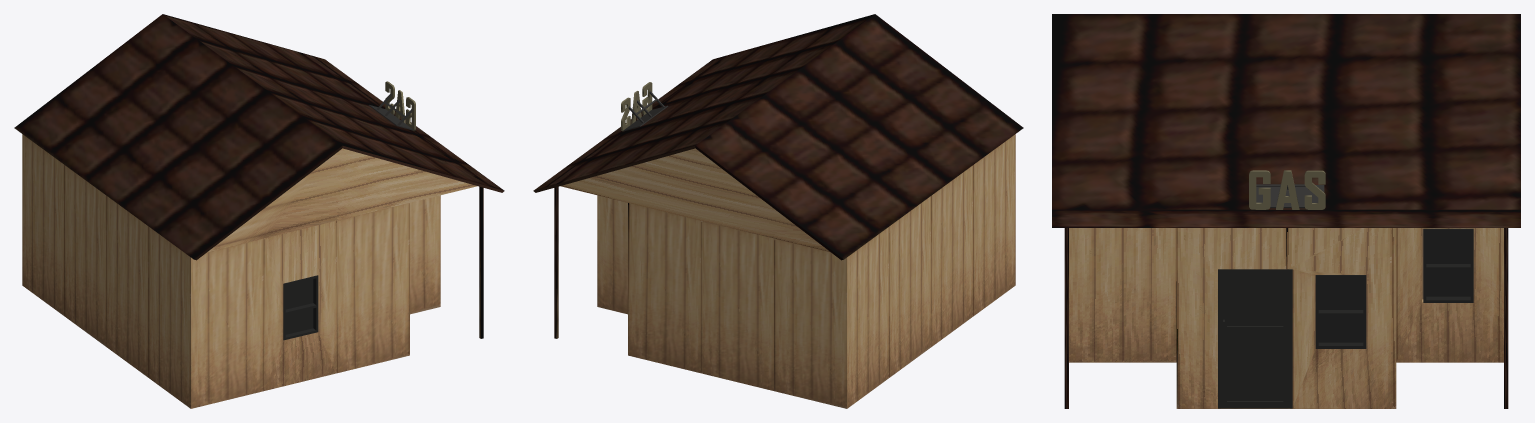
File: SmallStore.glb
The picture shows the model from 3 angles, left to right: view 1: azimuth 30°, elevation 25°; view 2: azimuth 150°, elevation 25°; view 3: azimuth 270°, elevation 25°; orthographic projection. The views are drawn at different scales.
Visible parts, largest first — view 1: Small Store, Roof, Cube.007, GAS, Cube.005; view 2: Small Store, Roof, GAS, Cube.005; view 3: Roof, Small Store, Door, Cube.003, Cube.006, GAS, Cube.005.
Boxes of the visible parts, box(x1,y1,x2,y2) form: Small Store: box(22, 134, 477, 408); Roof: box(14, 14, 504, 338); Cube.007: box(283, 275, 318, 340); GAS: box(385, 81, 415, 130); Cube.005: box(368, 93, 413, 130); Small Store: box(560, 134, 1015, 408); Roof: box(533, 14, 1023, 338); GAS: box(621, 82, 652, 131); Cube.005: box(623, 91, 668, 131); Roof: box(1052, 14, 1520, 408); Small Store: box(1069, 228, 1503, 408); Door: box(1218, 269, 1292, 408); Cube.003: box(1315, 275, 1366, 348); Cube.006: box(1423, 228, 1473, 302); GAS: box(1249, 170, 1325, 209); Cube.005: box(1256, 184, 1324, 208).
Bounding box in the file's own units: 4.26 × 3.04 × 4.27.
8 materials, 2 textured.
